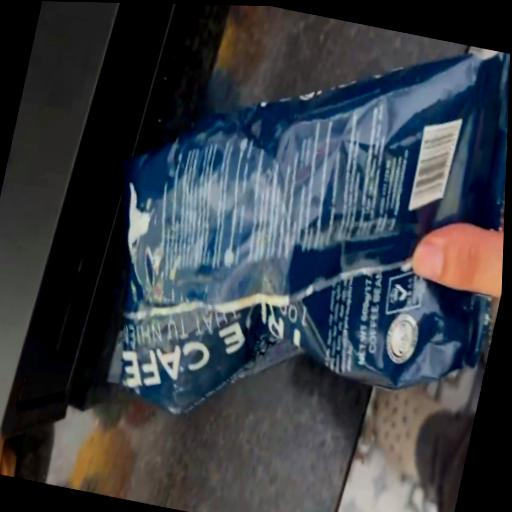cafe_hat: (120, 51, 510, 412)
